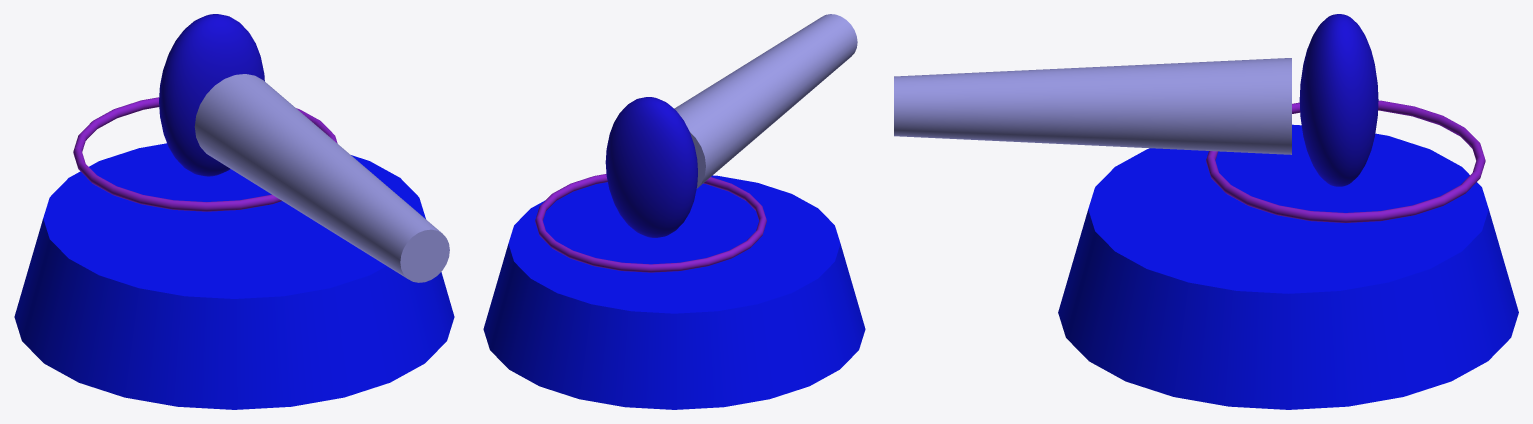
3 renders of one model, left to right at view 1: azimuth 30°, elevation 25°; view 2: azimuth 150°, elevation 25°; view 3: azimuth 270°, elevation 25°, orthographic. The views are drawn at different scales.
Parts seen in each view (by area): view 1: Cone01, Cone02, Sphere01, Torus01; view 2: Cone01, Cone02, Sphere01, Torus01; view 3: Cone01, Cone02, Sphere01, Torus01.
Part boxes in pixels (left/top/right/bottom): Cone01: left=14, top=143, right=454, bottom=409; Cone02: left=194, top=74, right=449, bottom=282; Sphere01: left=159, top=14, right=264, bottom=176; Torus01: left=73, top=97, right=337, bottom=211; Cone01: left=483, top=175, right=865, bottom=409; Cone02: left=674, top=14, right=857, bottom=188; Sphere01: left=605, top=97, right=697, bottom=237; Torus01: left=535, top=174, right=766, bottom=272; Cone01: left=1058, top=124, right=1518, bottom=409; Cone02: left=894, top=58, right=1291, bottom=154; Sphere01: left=1299, top=14, right=1378, bottom=186; Torus01: left=1206, top=100, right=1485, bottom=222.
Bounding box in the file's own units: 67.29 × 47.7 × 91.25.
